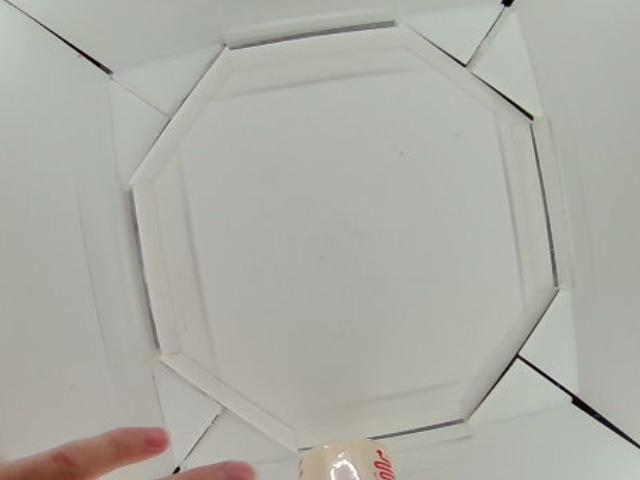Bottle: (296, 438, 394, 480)
